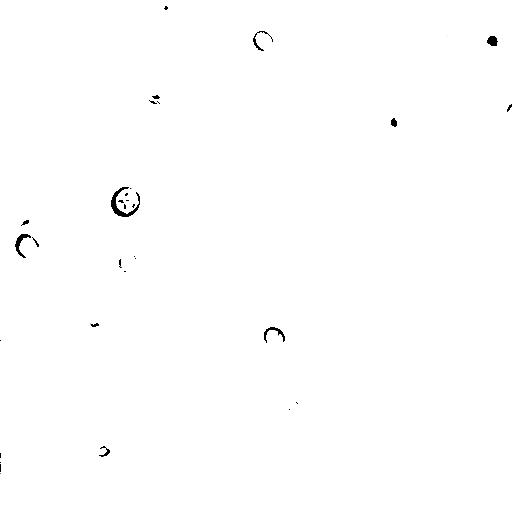micro-algae: (1, 279, 66, 360), (44, 1, 91, 50), (25, 217, 67, 258), (473, 21, 509, 57), (381, 105, 409, 140), (109, 186, 140, 217), (12, 232, 41, 259), (449, 47, 477, 74), (281, 393, 304, 417), (263, 326, 286, 349), (200, 197, 224, 218), (253, 29, 275, 51), (117, 251, 139, 273), (443, 27, 462, 49), (154, 0, 175, 19), (10, 209, 32, 227), (88, 309, 104, 328), (96, 445, 112, 459), (505, 102, 512, 124)
